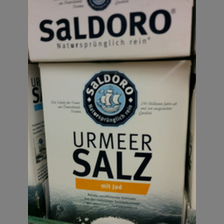spices: (40, 60, 191, 223)
